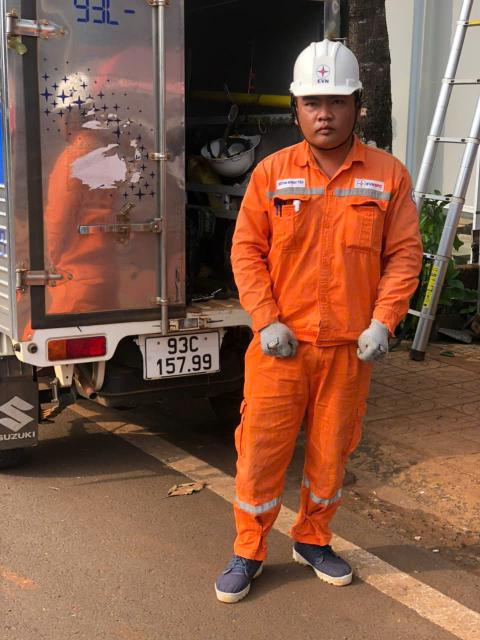gloves: (246, 325, 307, 362), (356, 310, 391, 359)
helmet: (290, 30, 370, 103)
shoes: (202, 524, 266, 607), (287, 530, 355, 592)
